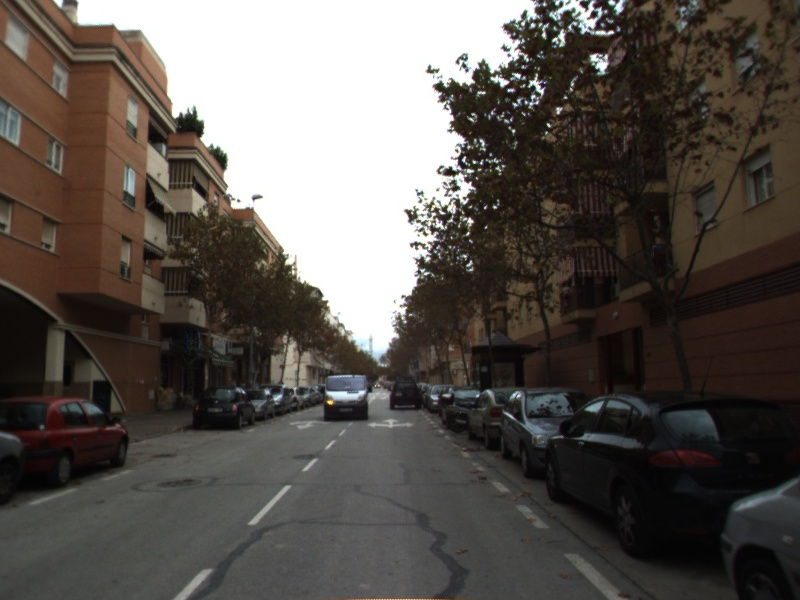STRAIGHT_LEFT_RIGHT: (366, 416, 417, 430)
